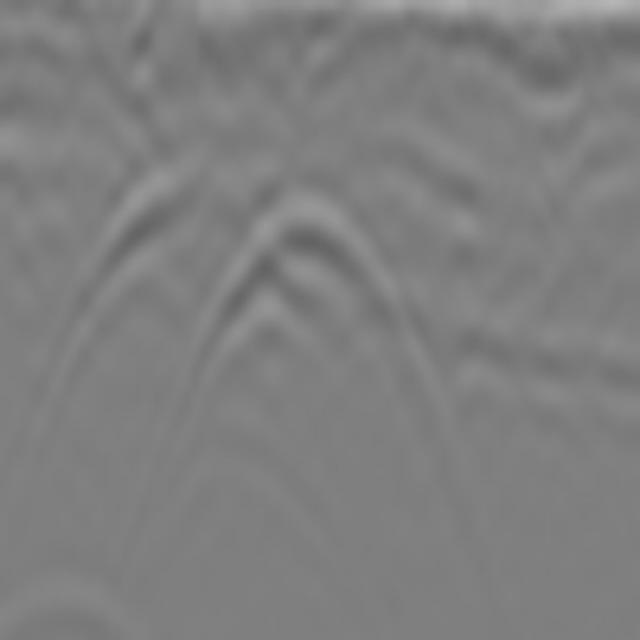hyperbola: (193, 175, 426, 411)
